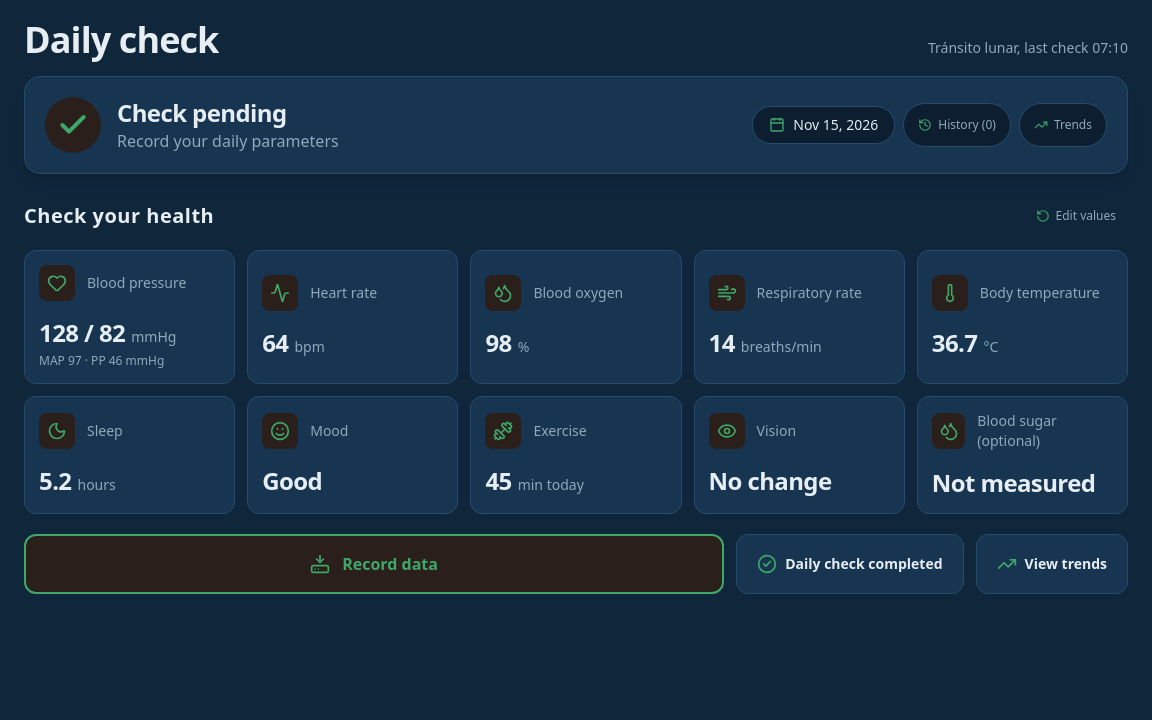
Scenario: pantallas traducidas › Chequeo diario: en inglés al cambiar el idioma
The width and height of the screenshot is (1152, 720).
Check: the heading "Daily check" is shown, box [24,20,218,60]
Check: the heading "Check your health" is shown, box [24,202,214,230]
Click the button "Edit values".
click(1076, 216)  # box [1024,194,1128,238]
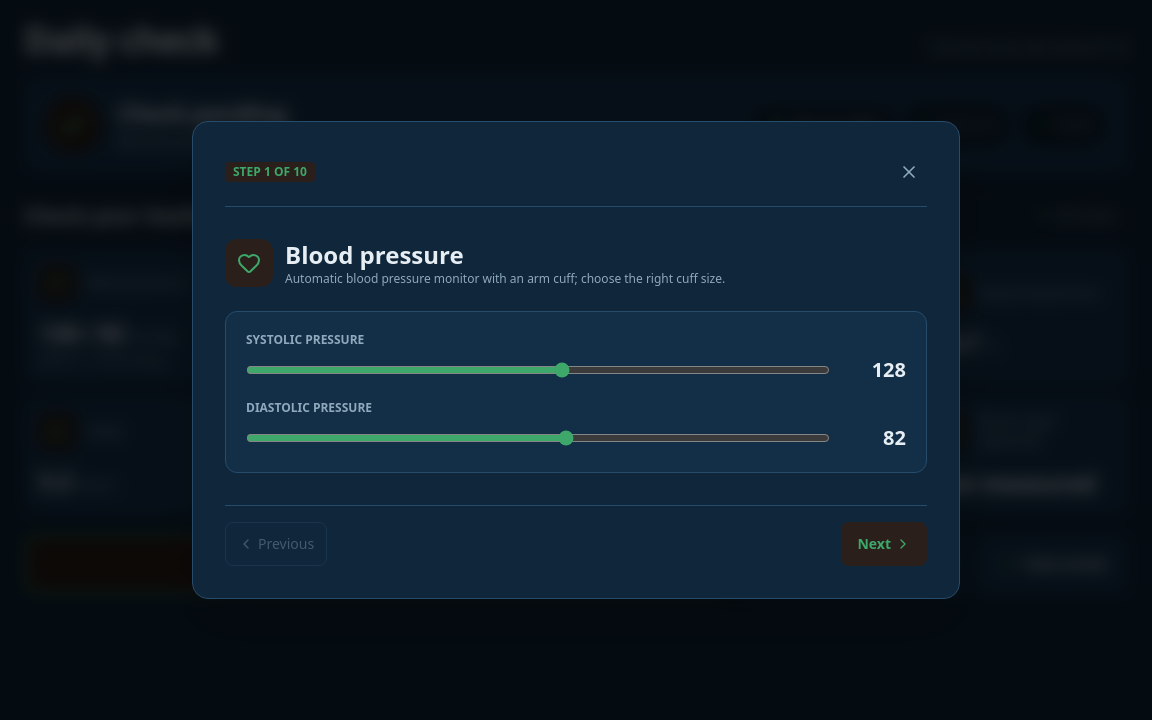
Check: the text "Step 1 of 10" is shown, box [225,162,315,182]
